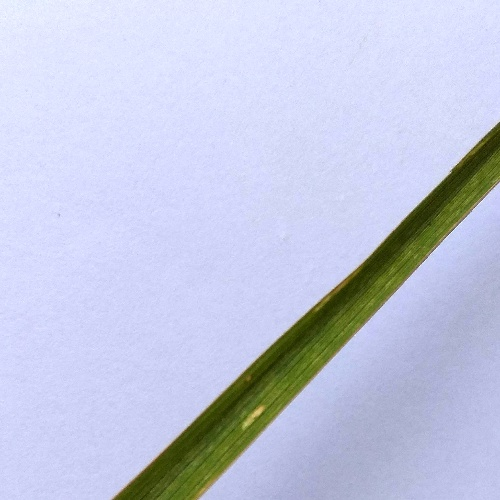Busuk Leher: (244, 396, 269, 429)
